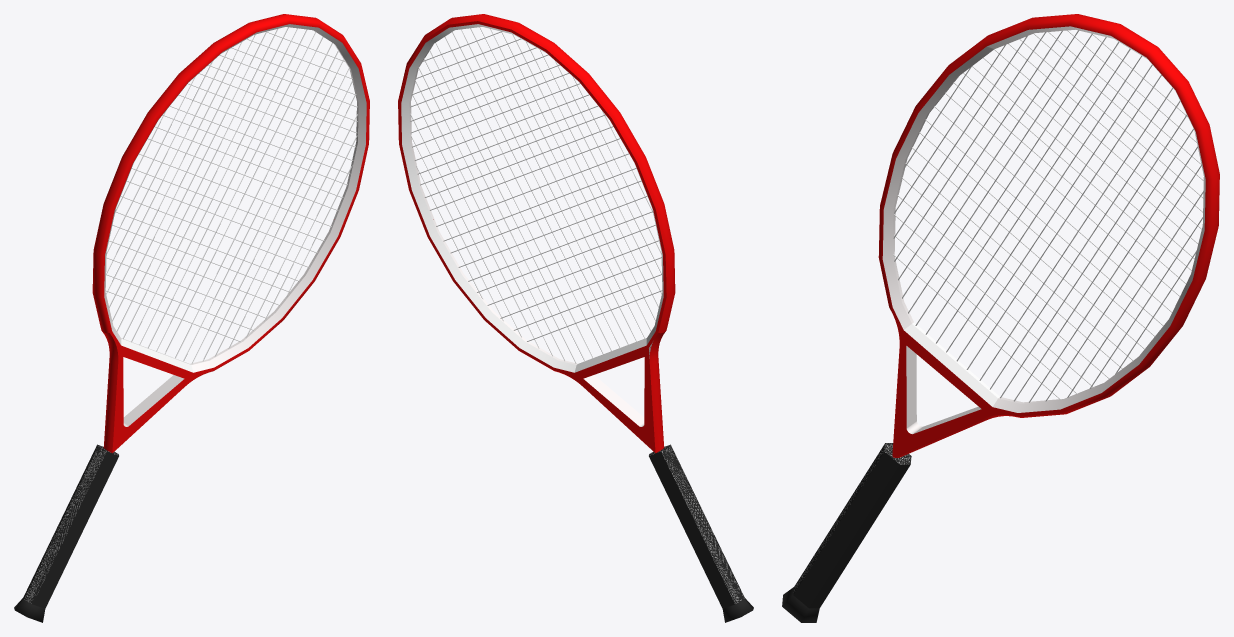
File: racket.dae
3 views of the same model, side by side, from view 1: azimuth 30°, elevation 25°; view 2: azimuth 150°, elevation 25°; view 3: azimuth 330°, elevation 25° (orthographic). The views are drawn at different scales.
Visible parts, largest first — view 1: ID697, ID709, ID671, ID717, ID703, ID837, ID729, ID735, ID723, ID777, ID741, ID747 (+2 smaller); view 2: ID697, ID703, ID671, ID709, ID717, ID837, ID735, ID723, ID801, ID747, ID843, ID729 (+1 smaller); view 3: ID697, ID671, ID709, ID703, ID717, ID837, ID843, ID789.
Boxes of the visible parts, box(x1,y1,x2,y2) form: ID697: box(92, 14, 369, 453); ID709: box(104, 24, 366, 372); ID671: box(14, 444, 118, 622); ID717: box(123, 375, 184, 426); ID703: box(121, 338, 193, 372); ID837: box(105, 61, 240, 341); ID729: box(156, 32, 315, 351); ID735: box(164, 37, 323, 354); ID723: box(148, 29, 306, 348); ID777: box(139, 28, 297, 345); ID741: box(175, 42, 332, 358); ID747: box(183, 50, 338, 361); ID697: box(398, 14, 675, 453); ID703: box(401, 24, 663, 372); ID671: box(649, 444, 753, 622); ID709: box(409, 44, 577, 364); ID717: box(583, 375, 644, 426); ID837: box(527, 61, 662, 341); ID735: box(445, 36, 603, 354); ID723: box(461, 29, 620, 347); ID801: box(479, 27, 636, 341); ID747: box(429, 50, 584, 360); ID843: box(410, 64, 661, 254); ID729: box(452, 31, 611, 351); ID697: box(878, 14, 1219, 457); ID671: box(782, 443, 911, 622); ID709: box(882, 26, 1205, 412); ID703: box(904, 322, 999, 406); ID717: box(906, 346, 981, 434); ID837: box(893, 36, 1061, 399); ID843: box(894, 39, 1203, 213); ID789: box(894, 214, 1196, 387).
Bounding box in the file's own units: 115 × 7.5 × 170.
